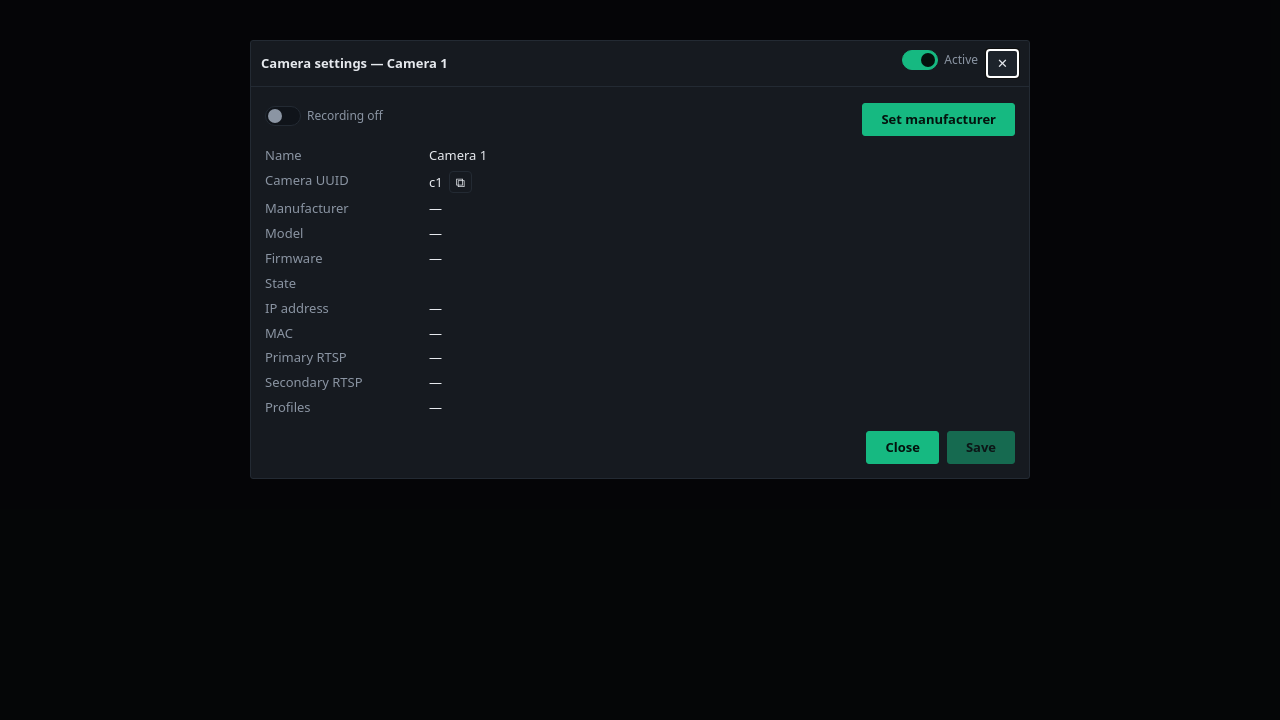
it: CameraSettingsModal: draft and Save (spec save-button) › 2.1-T6 partial save: PATCH ok + manufacturer fail keeps the fields saved and the manufacturer pending
Expected: the text "Recording off" is shown, [307,107,383,124]
Step 1. Click the checkbox with class "nx-switch" showing "Recording off" → (283, 116), box [265,106,301,126]
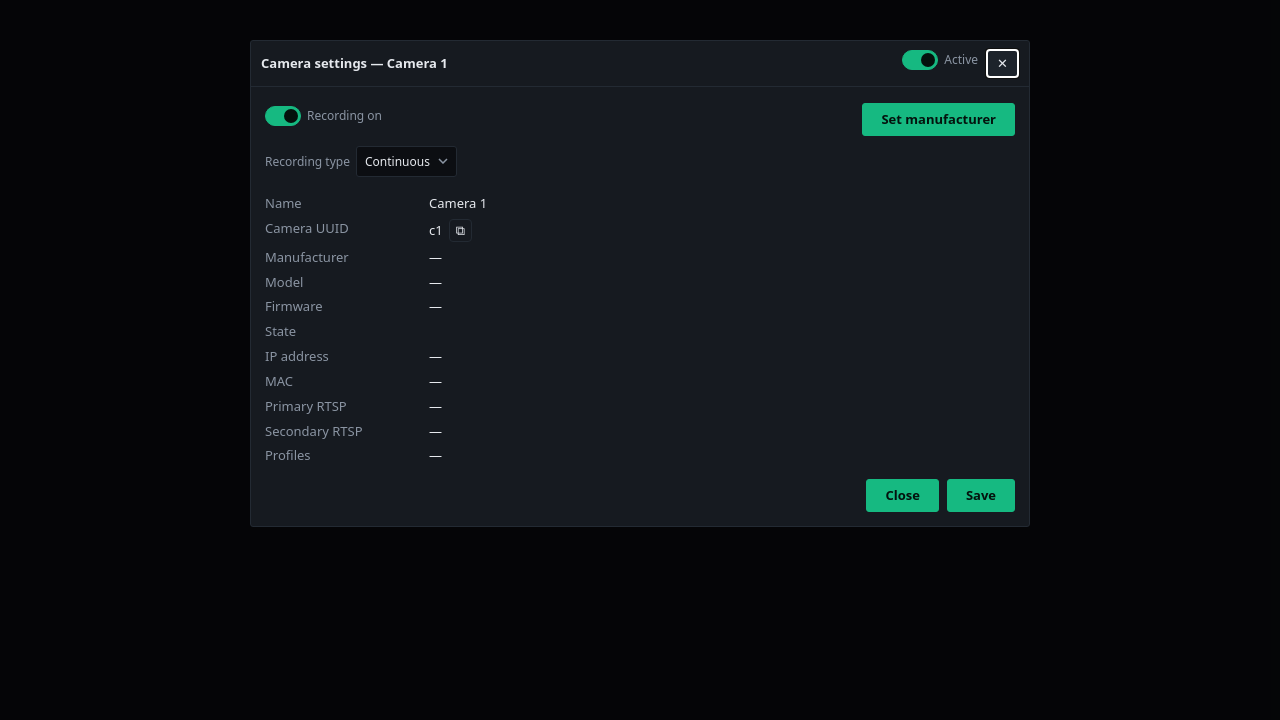
Step 2. Click the button "Set manufacturer" → (939, 119), box [862,103,1015,136]
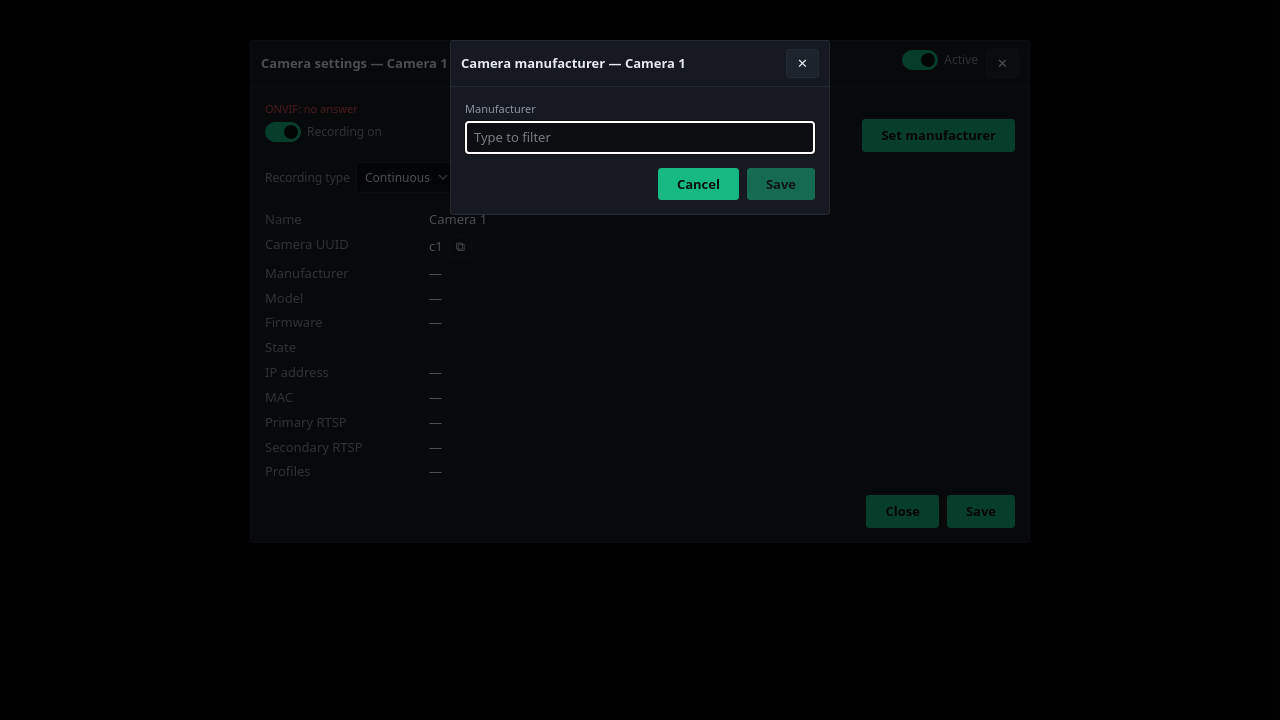
Step 3. Type "Uniview" into the field labelled "Manufacturer" → (640, 137), box [465,121,815,154]
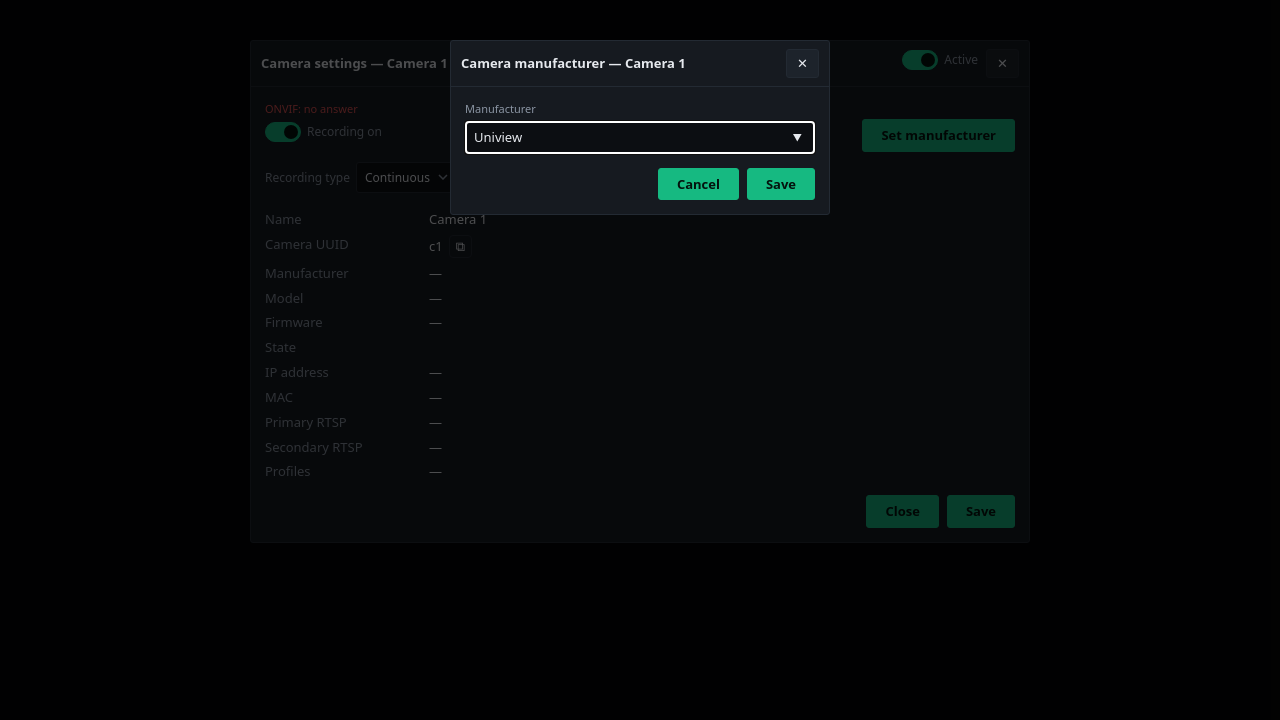
Now the button "Save" is enabled
Step 4. Click the button "Save" → (781, 184), box [747,168,815,200]
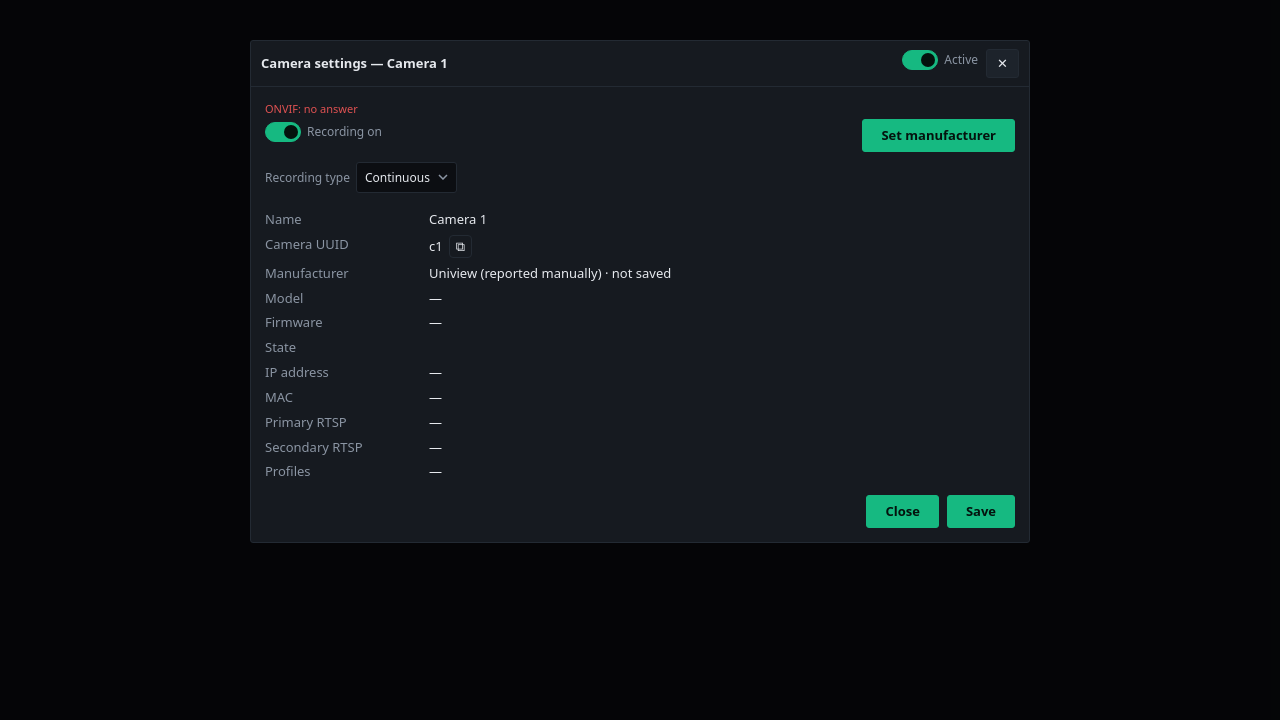
Step 5. Click the button "Save" → (981, 512), box [947,495,1015,528]
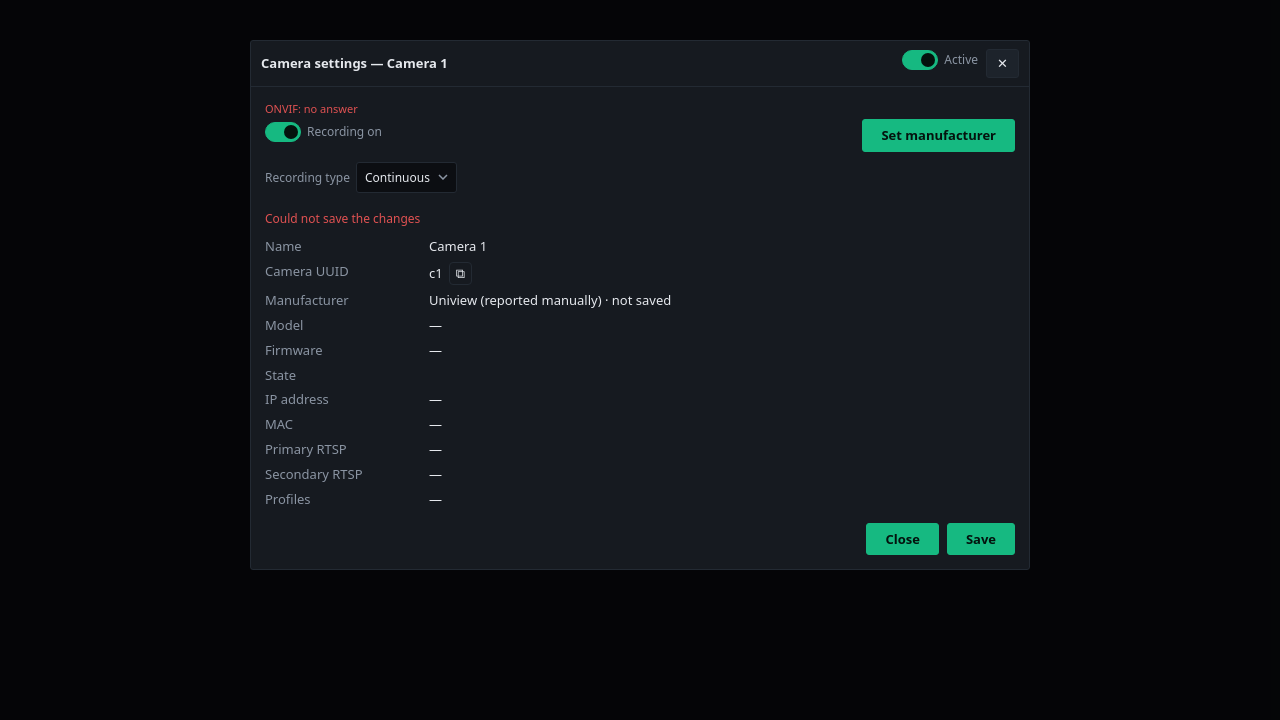
Now the button "Save" is enabled, box [947,523,1015,555]
Now the text "Uniview (reported manually) · not saved" is shown, box [429,291,671,309]
Now the text "Could not save the changes" is shown, box [265,210,420,227]
